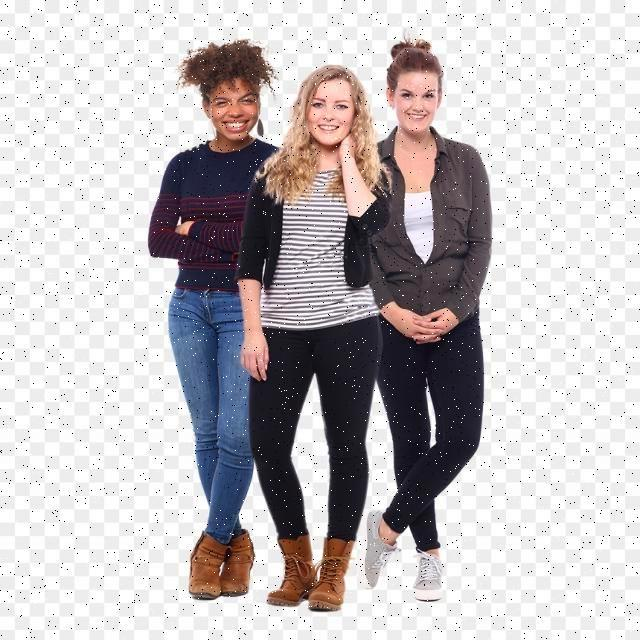no_apron: (240, 326, 272, 384), (429, 304, 471, 340), (396, 312, 424, 344)
